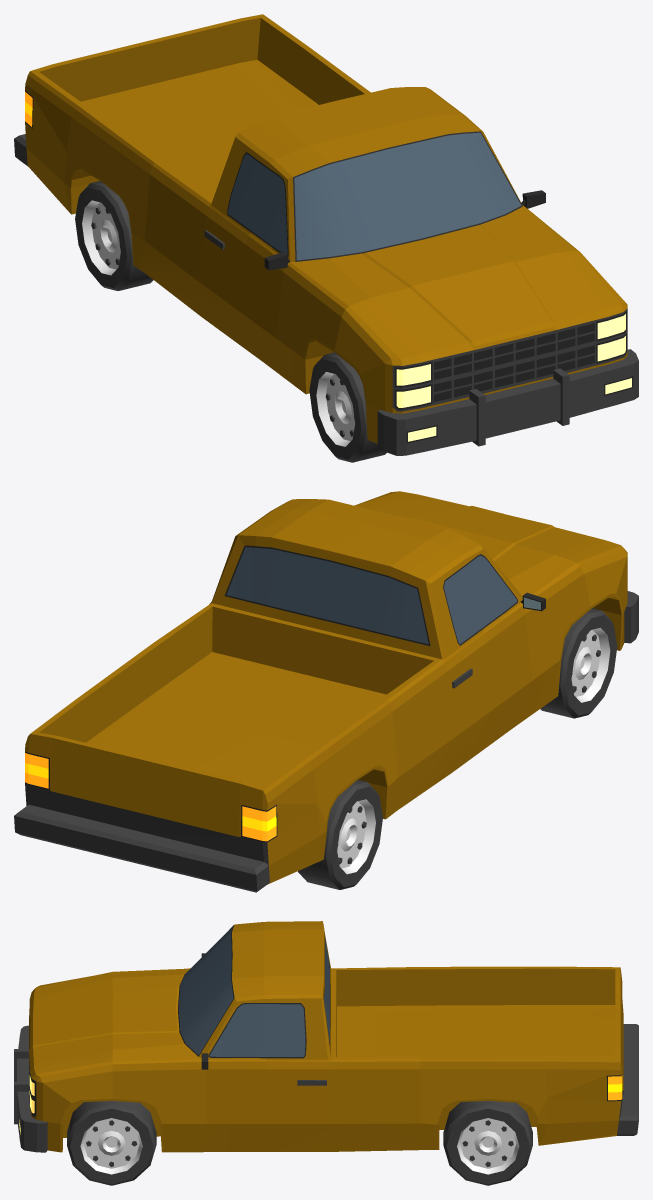
The model's file is Pick_Up_11.glb.
3 renders of one model, top to bottom at view 1: azimuth 30°, elevation 25°; view 2: azimuth 150°, elevation 25°; view 3: azimuth 270°, elevation 25°, orthographic. The views are drawn at different scales.
Visible parts, largest first — view 1: Pick Up_11, Pick Up_11 BR Tire, Pick Up_11 FR Tire; view 2: Pick Up_11, Pick Up_11 BR Tire, Pick Up_11 FR Tire; view 3: Pick Up_11, Pick Up_11 BL Tire, Pick Up_11 FL Tire.
Part boxes in pixels (x1=…): Pick Up_11: x1=14, y1=14, x2=638, y2=455; Pick Up_11 BR Tire: x1=75, y1=181, x2=153, y2=290; Pick Up_11 FR Tire: x1=309, y1=352, x2=386, y2=462; Pick Up_11: x1=14, y1=491, x2=638, y2=892; Pick Up_11 BR Tire: x1=298, y1=780, x2=382, y2=889; Pick Up_11 FR Tire: x1=540, y1=608, x2=617, y2=718; Pick Up_11: x1=14, y1=921, x2=638, y2=1152; Pick Up_11 BL Tire: x1=443, y1=1101, x2=532, y2=1185; Pick Up_11 FL Tire: x1=67, y1=1101, x2=156, y2=1185.
Bounding box in the file's own units: 2.49 × 1.97 × 6.04.
2 materials, 2 textured.
